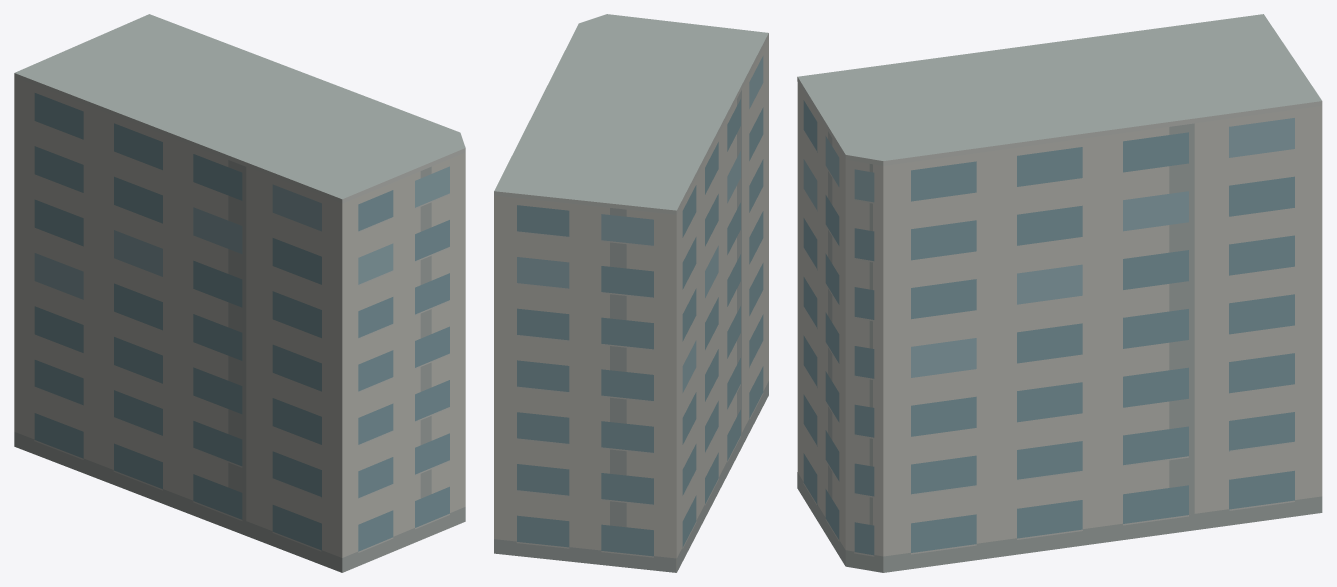
The model's file is survey-upis-32569072.glb.
3 views of the same model, side by side, from view 1: azimuth 30°, elevation 25°; view 2: azimuth 150°, elevation 25°; view 3: azimuth 270°, elevation 25° (orthographic). The views are drawn at different scales.
Visible parts, largest first — view 1: survey-upis-32569072.tmp; view 2: survey-upis-32569072.tmp; view 3: survey-upis-32569072.tmp.
Part boxes in pixels (x1,y1,x2,y2): survey-upis-32569072.tmp: [14, 14, 465, 572]; survey-upis-32569072.tmp: [494, 14, 768, 572]; survey-upis-32569072.tmp: [797, 14, 1322, 572].
Size of the model in its own units: 15.6 by 20.35 by 23.52.
